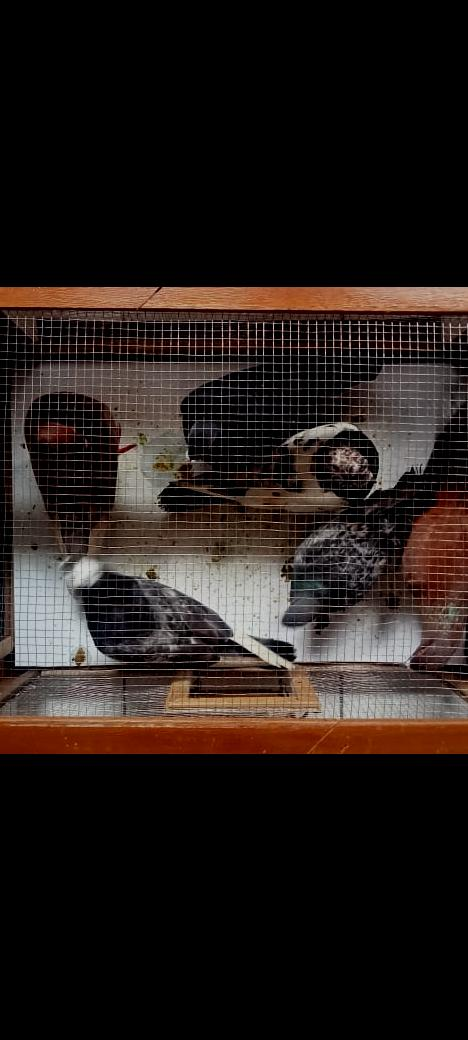Merpati: (64, 557, 297, 669), (282, 467, 431, 627), (180, 355, 383, 467), (159, 421, 381, 512), (398, 404, 468, 673), (22, 390, 120, 562)
